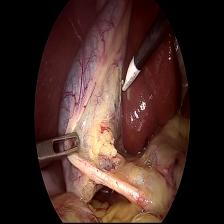Grasper: (35, 128, 81, 164)
Hook: (119, 54, 140, 94)
